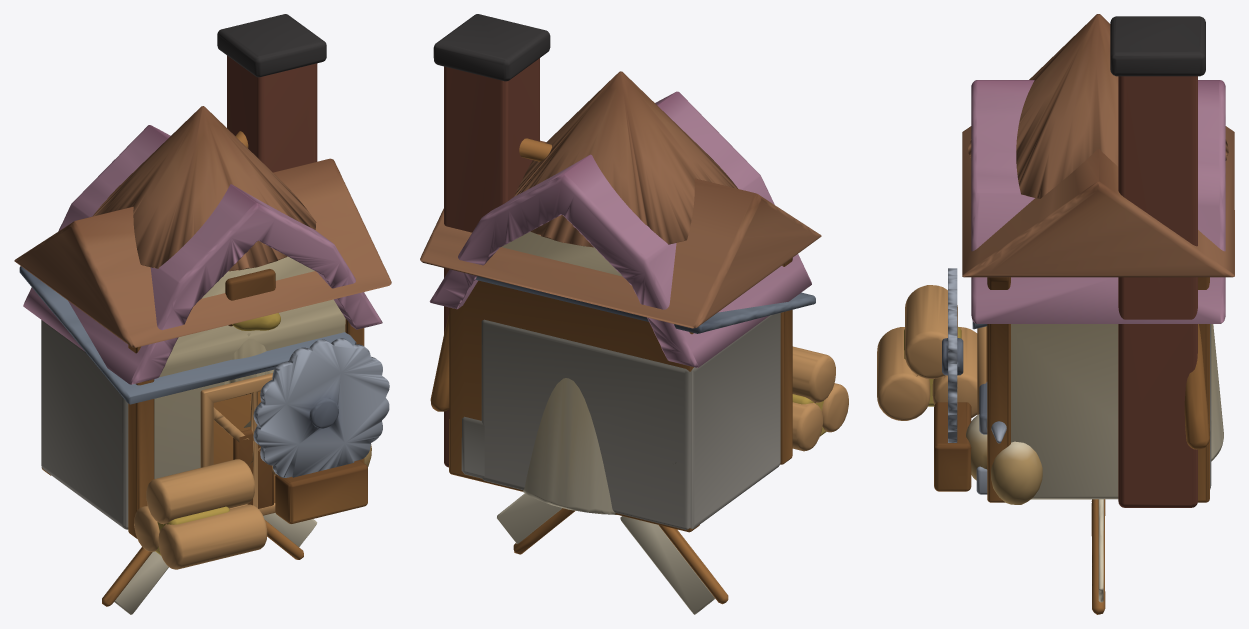
Rendered from buildings.glb.
3 renders of one model, left to right at view 1: azimuth 30°, elevation 25°; view 2: azimuth 150°, elevation 25°; view 3: azimuth 270°, elevation 25°, orthographic. The views are drawn at different scales.
Visible parts, largest first — view 1: sawmill, barn, forge, windmill, windmill_sails; view 2: forge, sawmill, barn, windmill, windmill_sails, quarry; view 3: sawmill, barn, forge, windmill, quarry, windmill_sails.
Part boxes in pixels (<box>): sawmill: <box>14,158,391,569</box>; barn: <box>23,125,382,555</box>; forge: <box>19,14,356,529</box>; windmill: <box>92,106,371,508</box>; windmill_sails: <box>102,513,317,614</box>; forge: <box>433,14,815,529</box>; sawmill: <box>420,140,848,532</box>; barn: <box>429,91,826,436</box>; windmill: <box>514,71,737,514</box>; windmill_sails: <box>497,493,728,614</box>; quarry: <box>430,138,676,478</box>; sawmill: <box>877,126,1234,502</box>; barn: <box>904,80,1225,499</box>; forge: <box>972,16,1211,507</box>; windmill: <box>966,14,1228,504</box>; quarry: <box>1184,324,1211,489</box>; windmill_sails: <box>1091,499,1105,614</box>.
Bounding box in the file's own units: 2.66 × 4.97 × 2.7.
